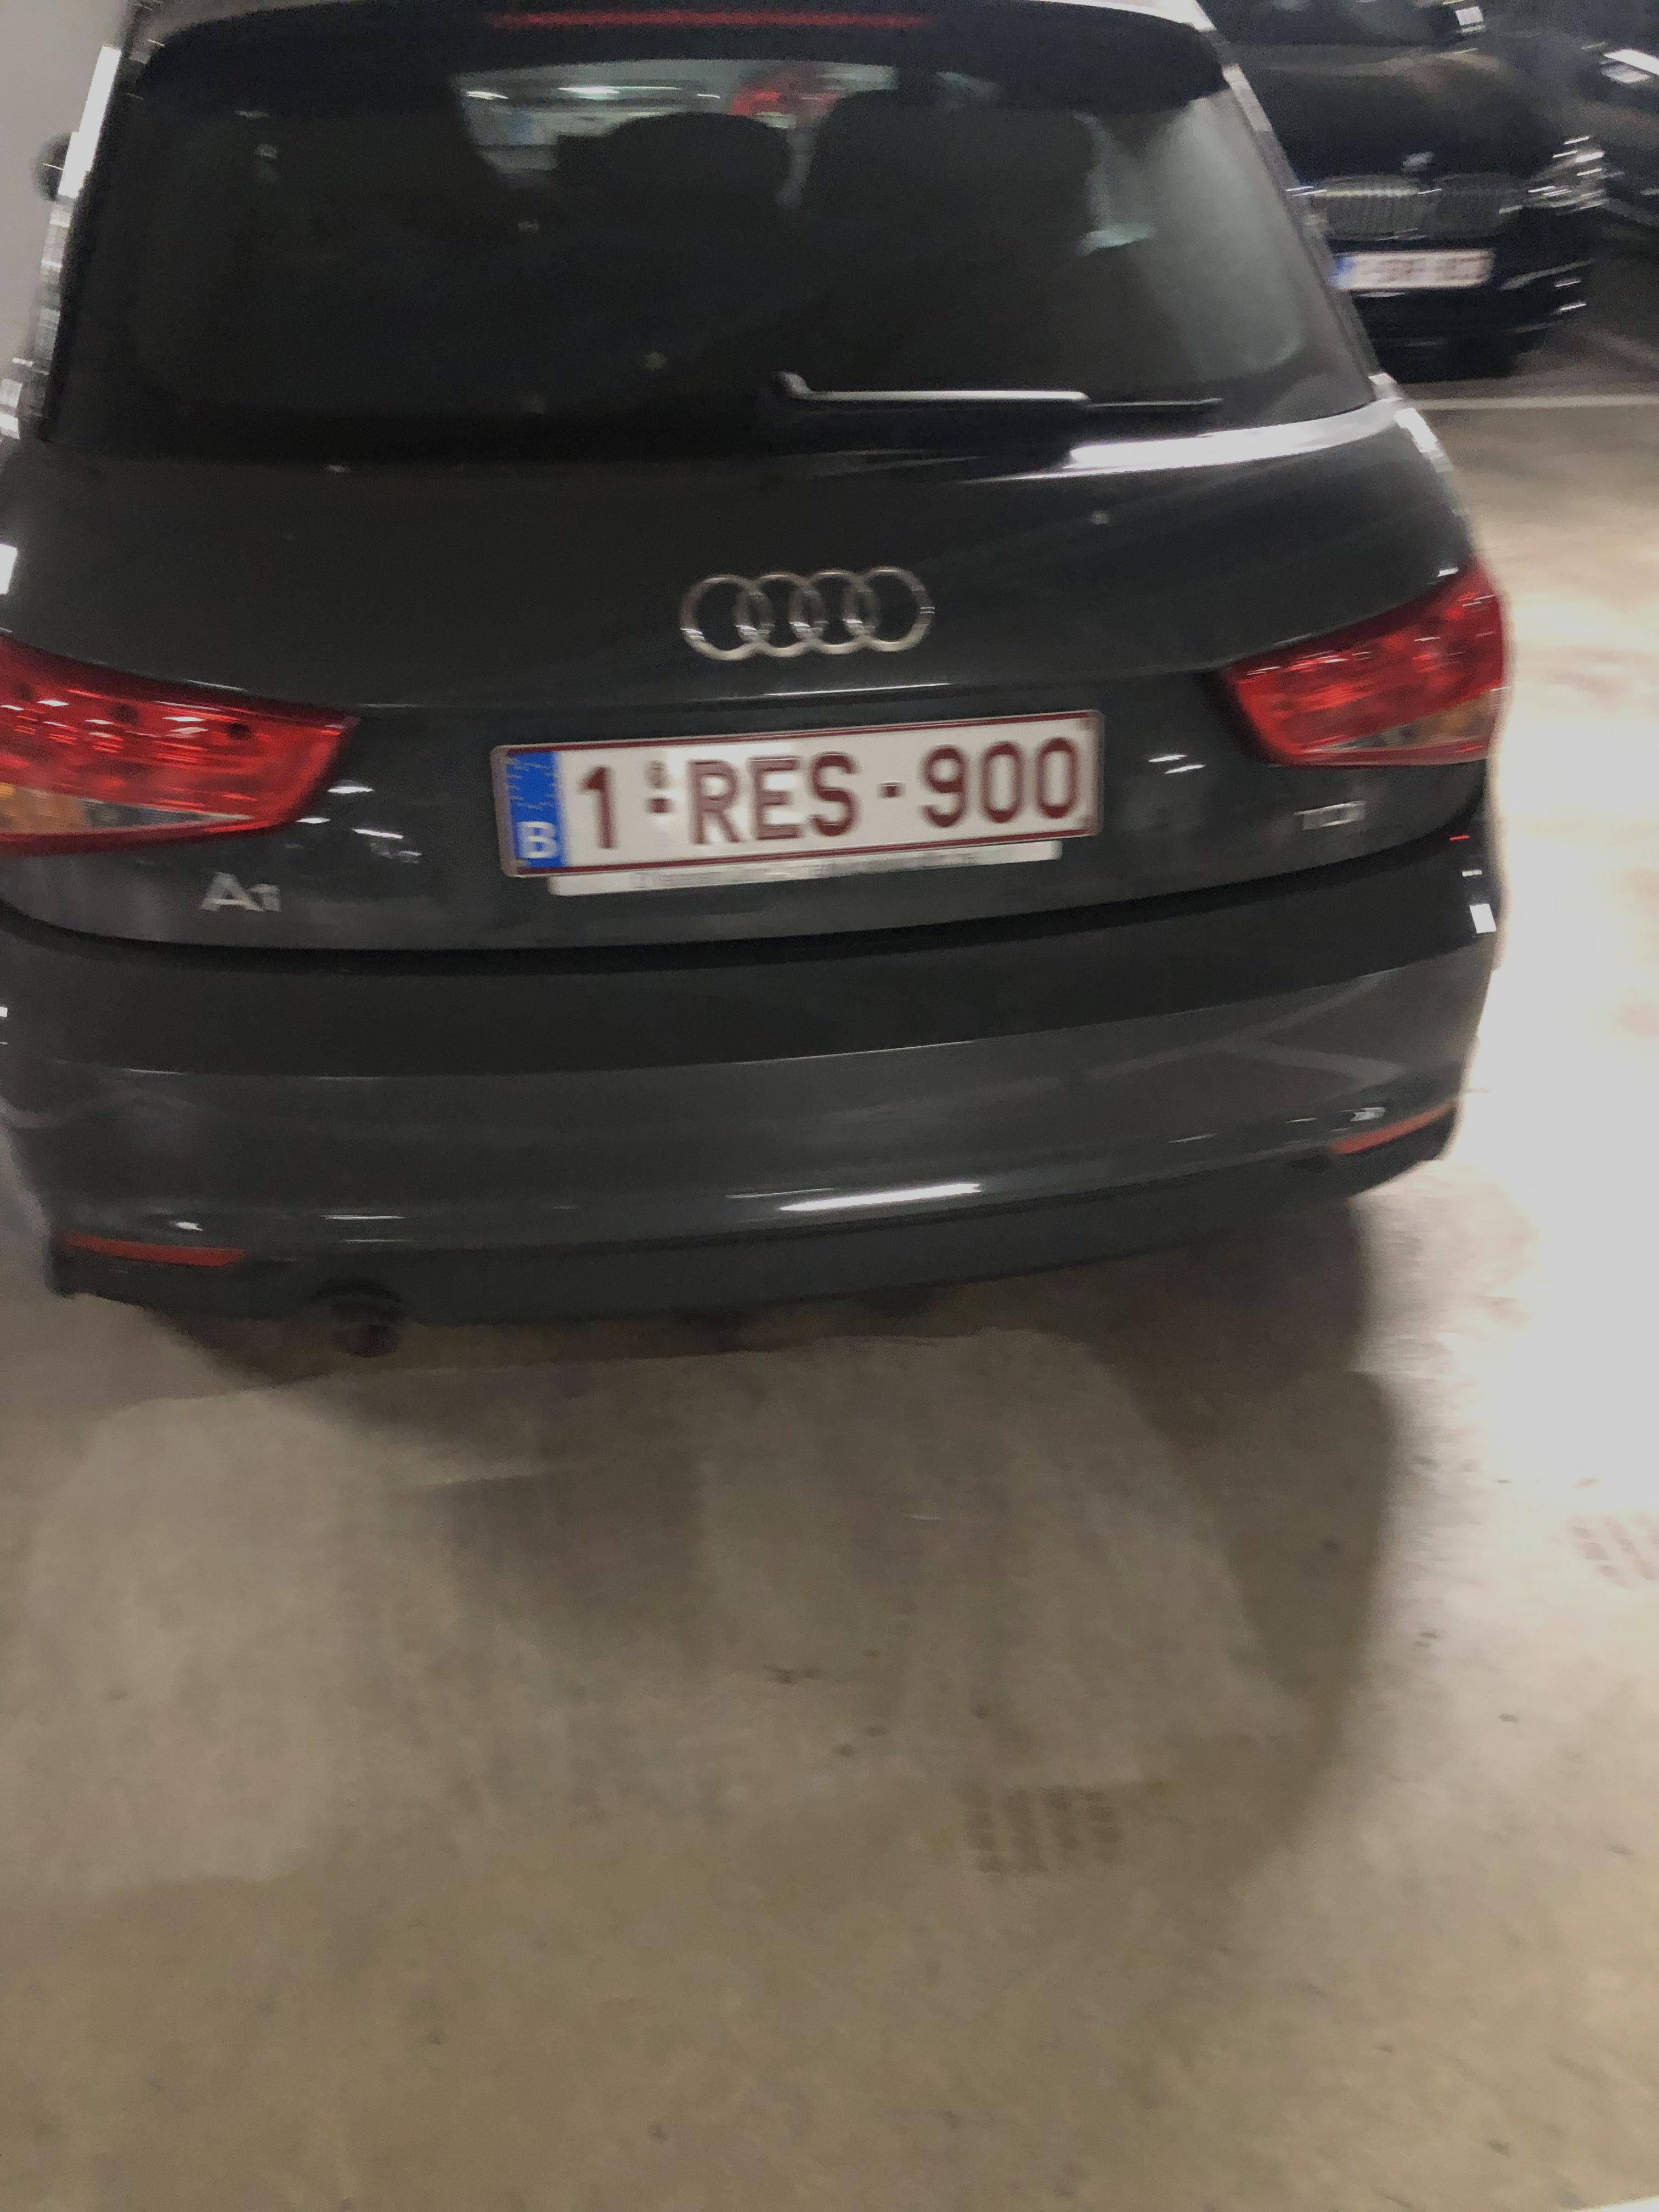plate: (471, 704, 1114, 899)
